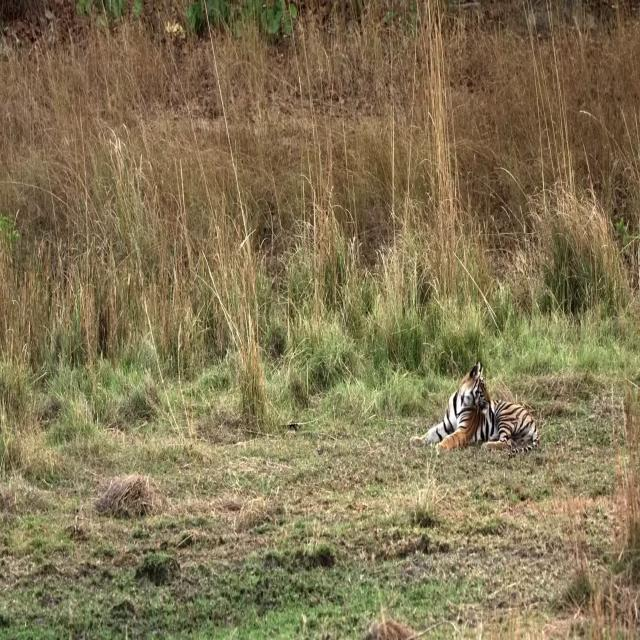tiger: (410, 360, 540, 460)
